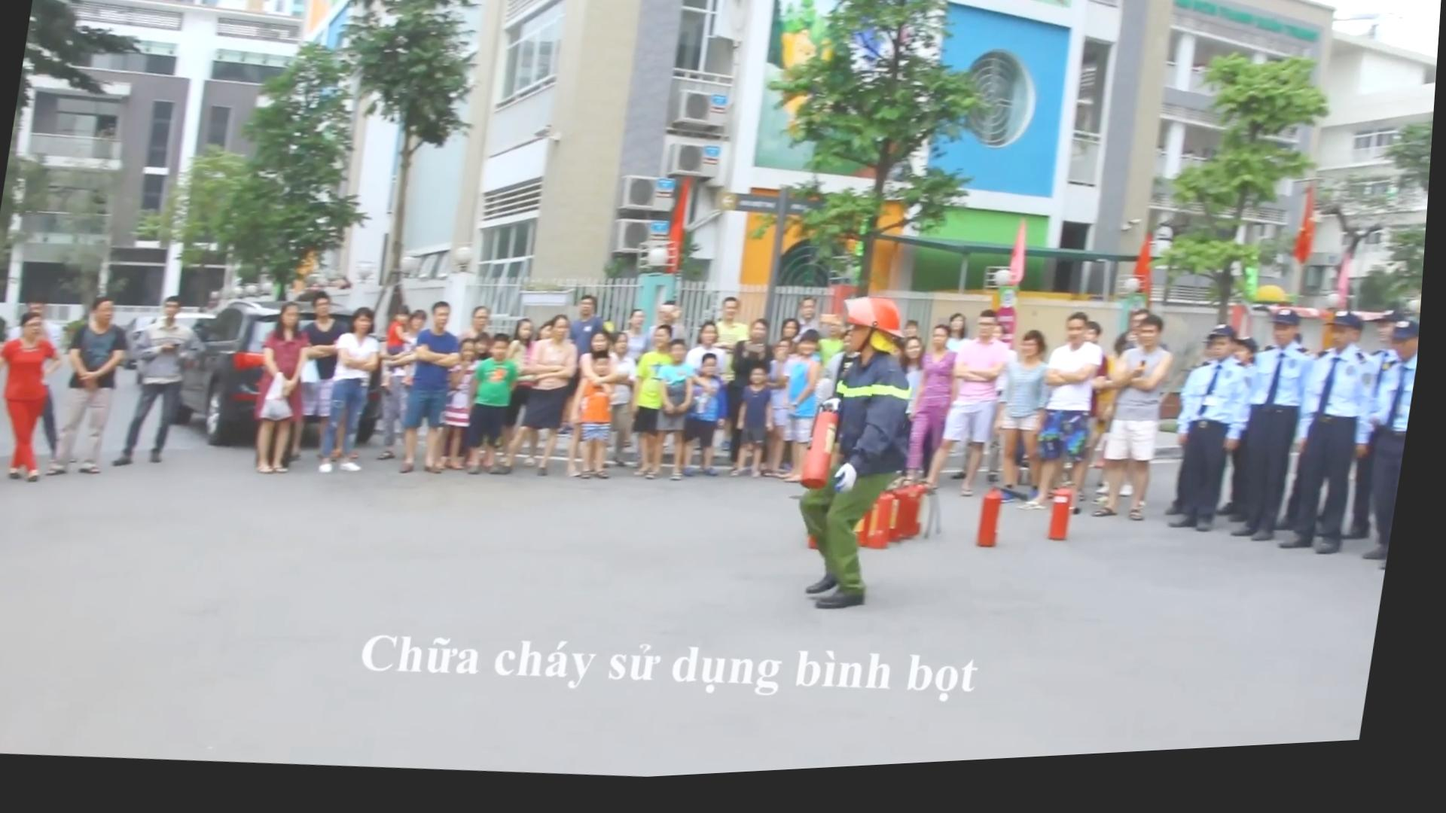FireExtinguisher: (801, 398, 854, 504), (898, 482, 961, 567), (976, 486, 1025, 569), (864, 494, 906, 565), (1053, 490, 1088, 561)
